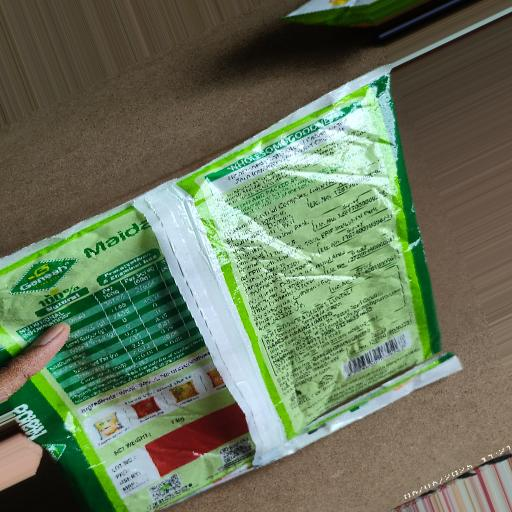Ganesh Maida: (0, 36, 472, 508)
